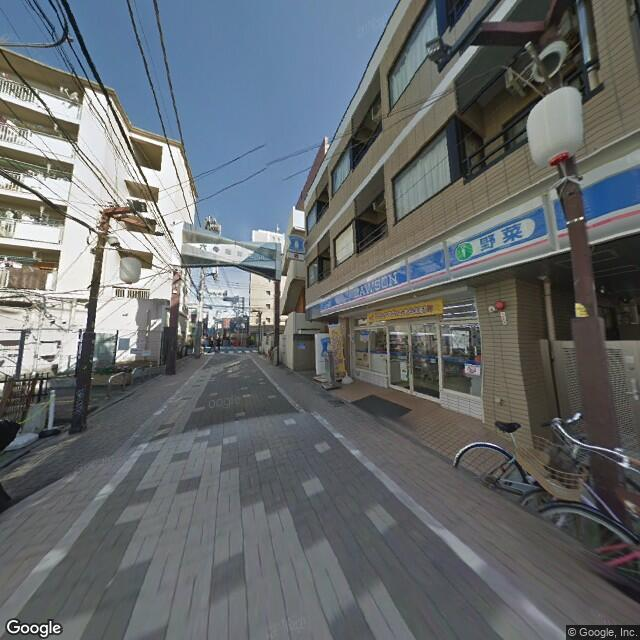lawson: (323, 140, 638, 315), (287, 228, 306, 256), (318, 335, 337, 357)
